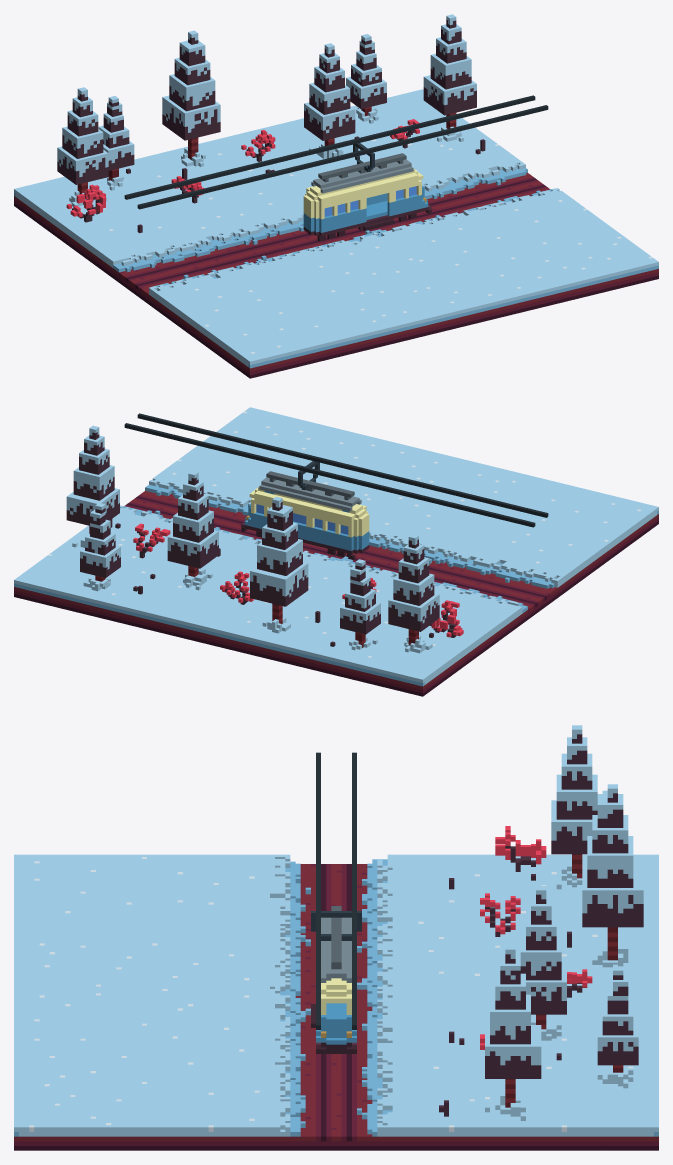
Rendered from Big SnowScape_01-0.obj.
3 renders of one model, top to bottom at view 1: azimuth 30°, elevation 25°; view 2: azimuth 150°, elevation 25°; view 3: azimuth 270°, elevation 25°, orthographic. The views are drawn at different scales.
Visible parts, largest first — view 1: Big SnowScape_01-0; view 2: Big SnowScape_01-0; view 3: Big SnowScape_01-0.
Part boxes in pixels (x1,y1,x2,y2): Big SnowScape_01-0: (14, 14, 658, 378); Big SnowScape_01-0: (14, 407, 658, 696); Big SnowScape_01-0: (14, 725, 658, 1150).
Bounding box in the file's own units: 126 × 43 × 126.
Materials: 1 (1 with a texture image).
